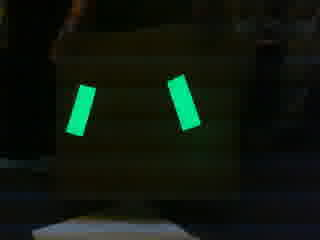target: (65, 72, 199, 140)
